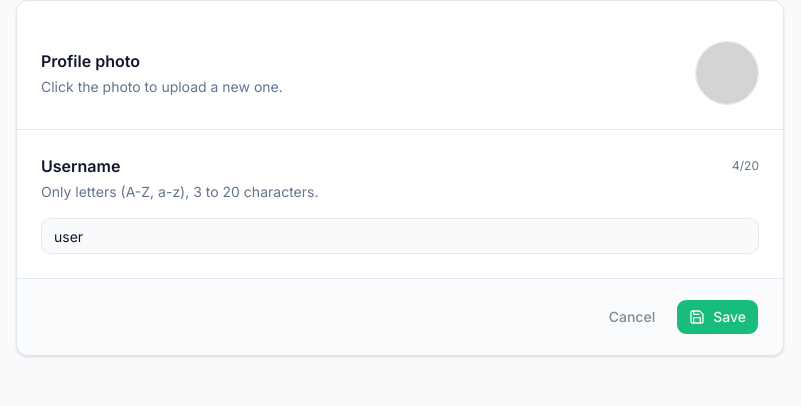
ProfileCard › should show an inline error message and disable save button when username is less than 3 characters
Replace the text in the field labelled "Username" with "ab": [400, 236] box [41,218,759,254]
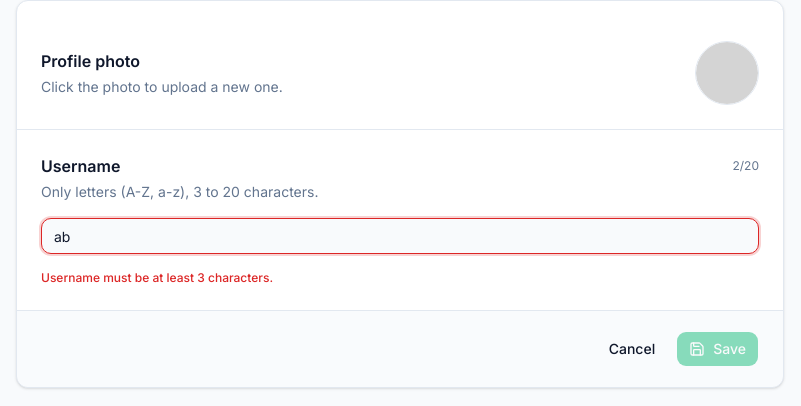
Result: the button "Save" is disabled at [676,331,759,367]
Result: the message reads "Username must be at least 3 characters." at [41,270,273,285]
